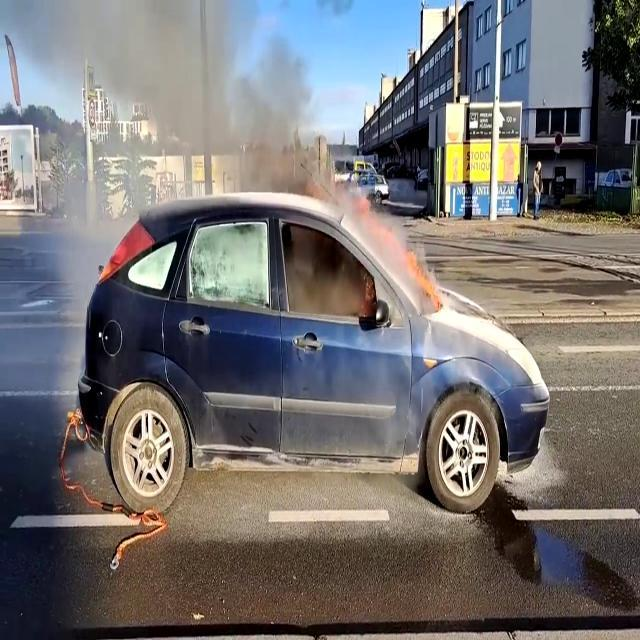Fire: (352, 192, 442, 311)
Smoke: (41, 0, 312, 203)
